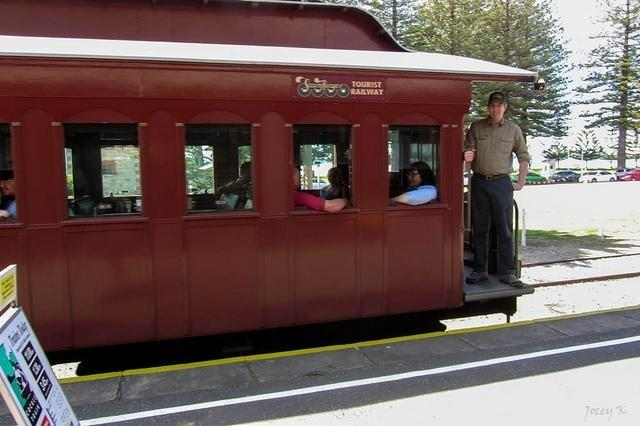car: (510, 172, 547, 182), (582, 171, 618, 181), (554, 172, 581, 182), (619, 170, 640, 181), (615, 168, 636, 176)
